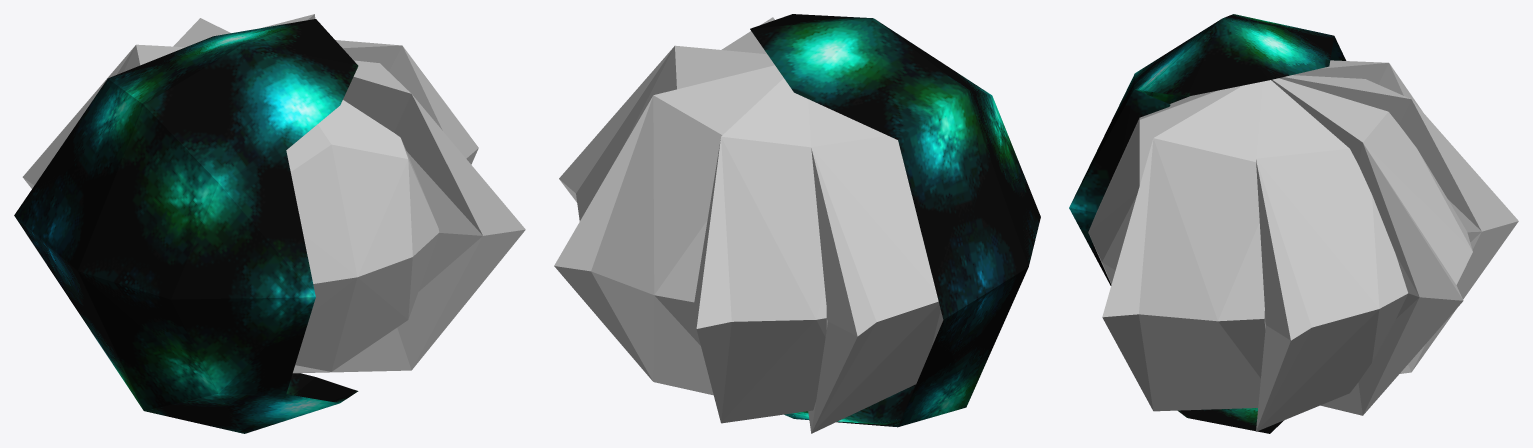
The model's file is common_lefthandshield_97510.obj.
3 renders of one model, left to right at view 1: azimuth 30°, elevation 25°; view 2: azimuth 150°, elevation 25°; view 3: azimuth 270°, elevation 25°, orthographic. The views are drawn at different scales.
Parts seen in each view (by area): view 1: Object01, common_leftHandShield_97510, Object06, Object05, Object02, Object03; view 2: Object01, Object03, Object04, Object02, Object05, Object06; view 3: Object06, Object05, Object04, Object01, Object03, common_leftHandShield_97510, Object02.
Part boxes in pixels (x1,y1,x2,y2): Object01: [14, 19, 358, 433]; common_leftHandShield_97510: [286, 100, 439, 372]; Object06: [293, 60, 525, 373]; Object05: [335, 40, 478, 164]; Object02: [22, 44, 184, 188]; Object03: [173, 18, 230, 47]; Object01: [750, 14, 1040, 427]; Object03: [693, 78, 826, 423]; Object04: [554, 65, 783, 395]; Object02: [808, 99, 943, 433]; Object05: [559, 45, 774, 221]; Object06: [721, 17, 774, 53]; Object06: [1102, 81, 1265, 411]; Object05: [1256, 80, 1408, 431]; Object04: [1271, 78, 1472, 415]; Object01: [1069, 14, 1346, 433]; Object03: [1279, 75, 1518, 373]; common_leftHandShield_97510: [1088, 85, 1242, 284]; Object02: [1293, 60, 1422, 111].
Bounding box in the file's own units: 7.97 × 6.96 × 7.36.
